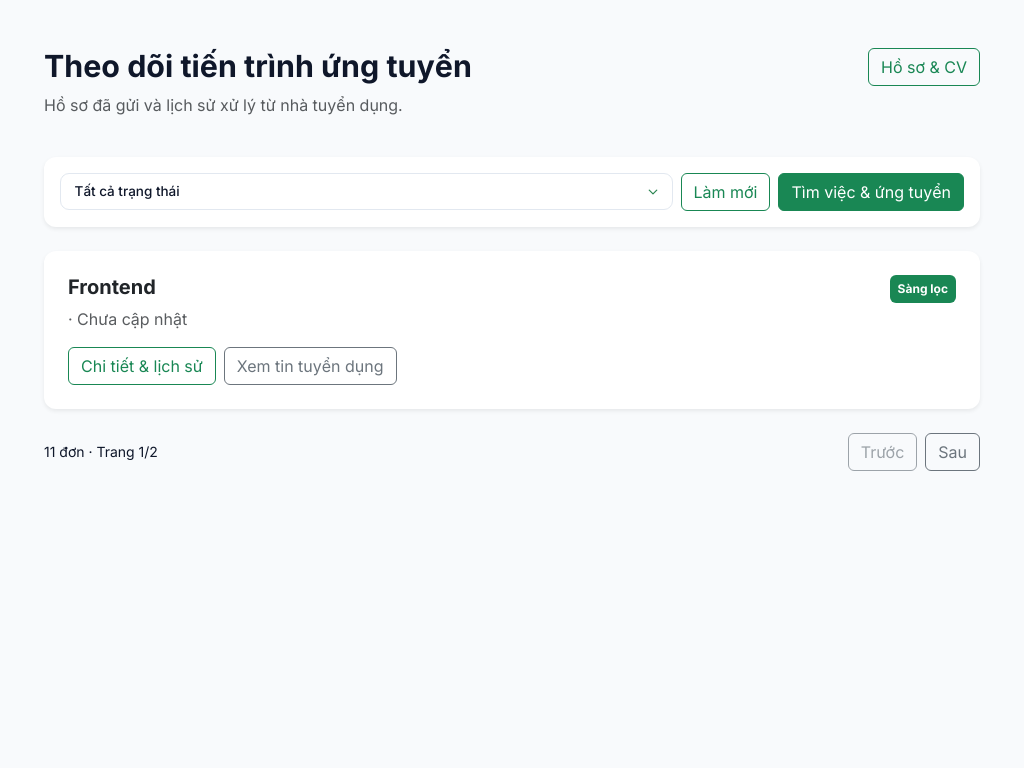
Scenario: lịch sử dùng trạng thái, phân trang và timeline thật từ response
Click the button "Sau".
click(953, 452)  # box [925,432,980,470]
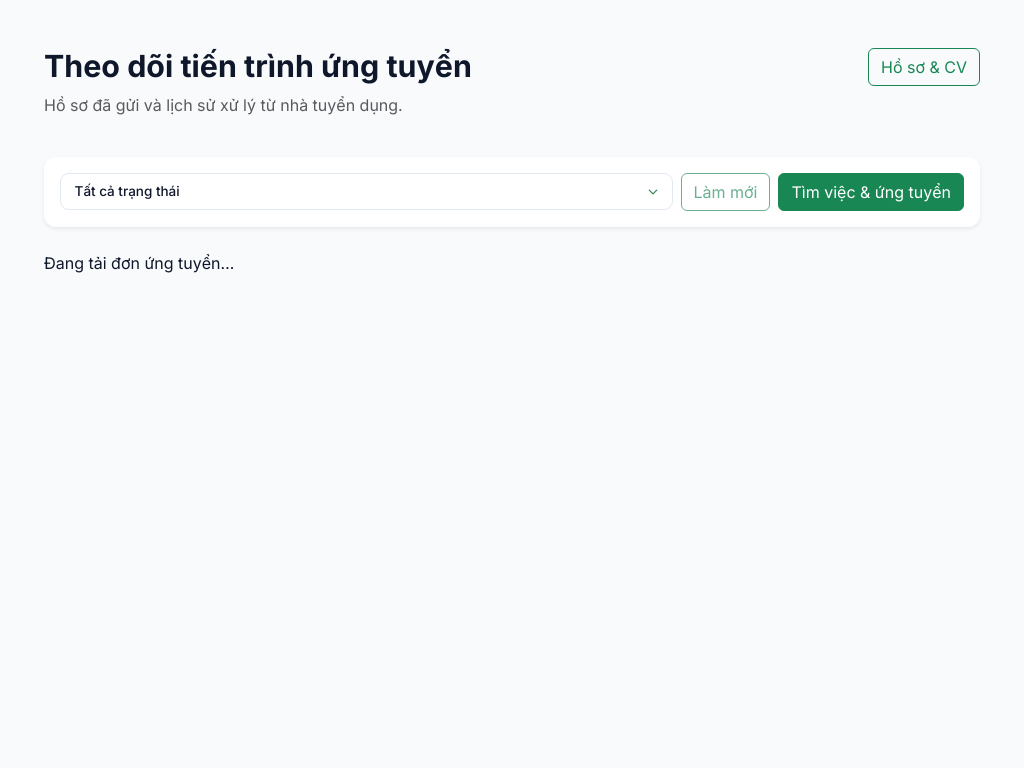
Select "Sàng lọc" in the dropdown named "Lọc trạng thái đơn" at coordinates (366, 192), box [60,173,672,210]
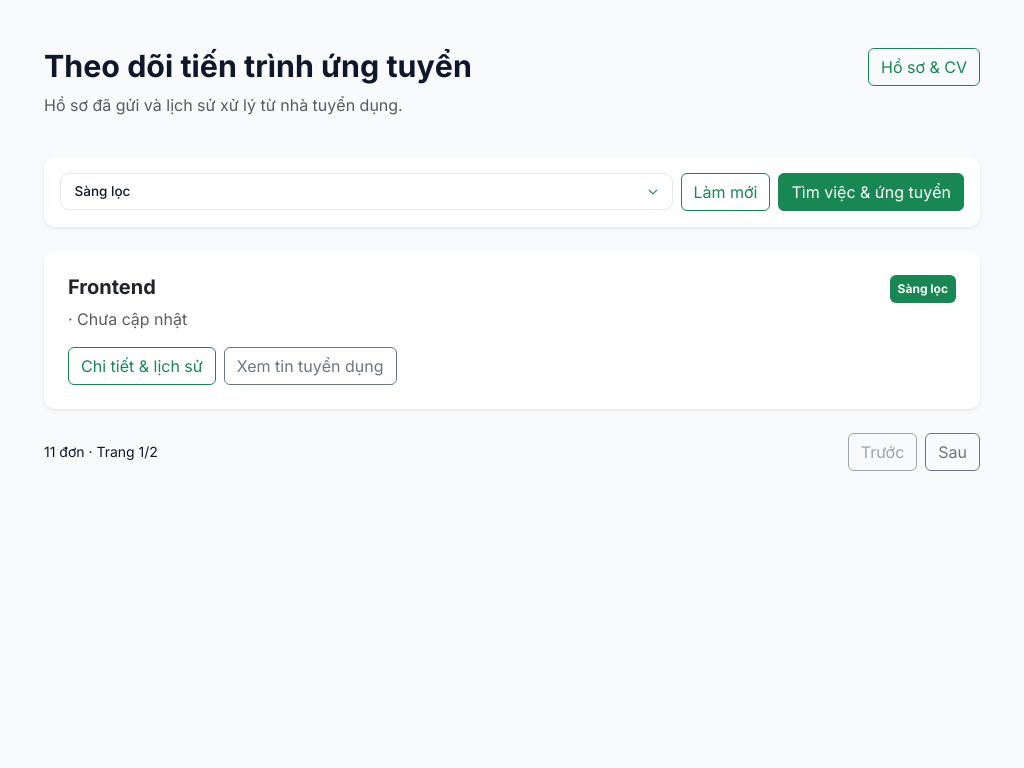
Click the button "Chi tiết & lịch sử".
click(142, 366)  # box [68,346,216,384]
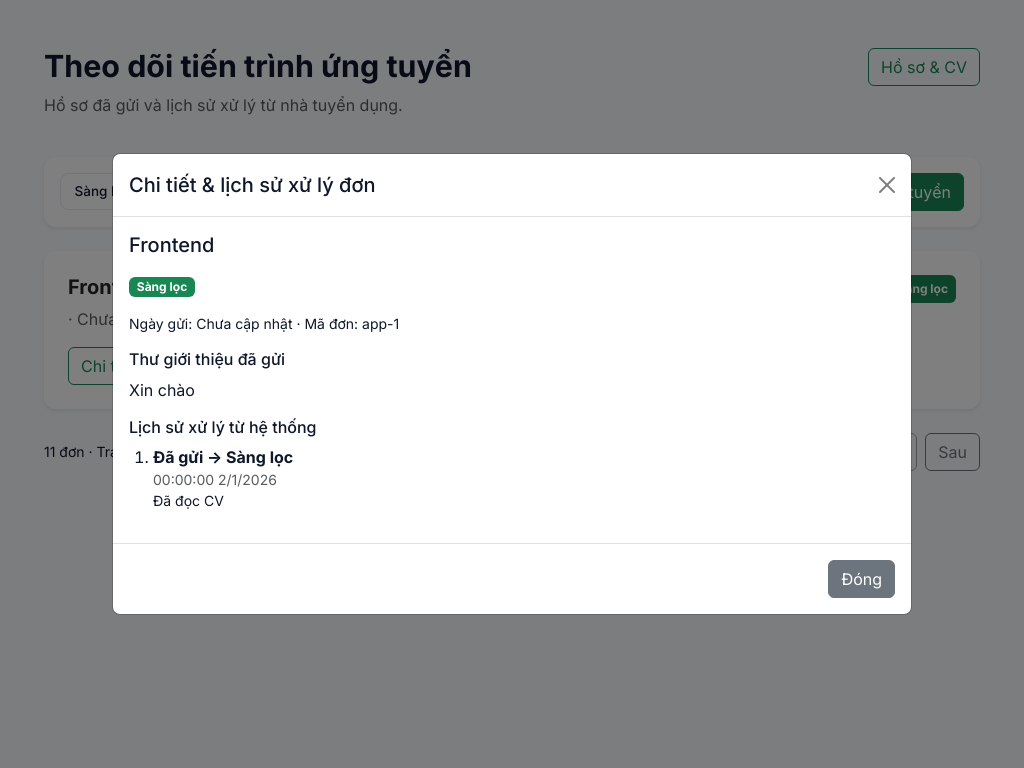
Expected: the text "Đã đọc CV" is shown, [153,492,224,509]
